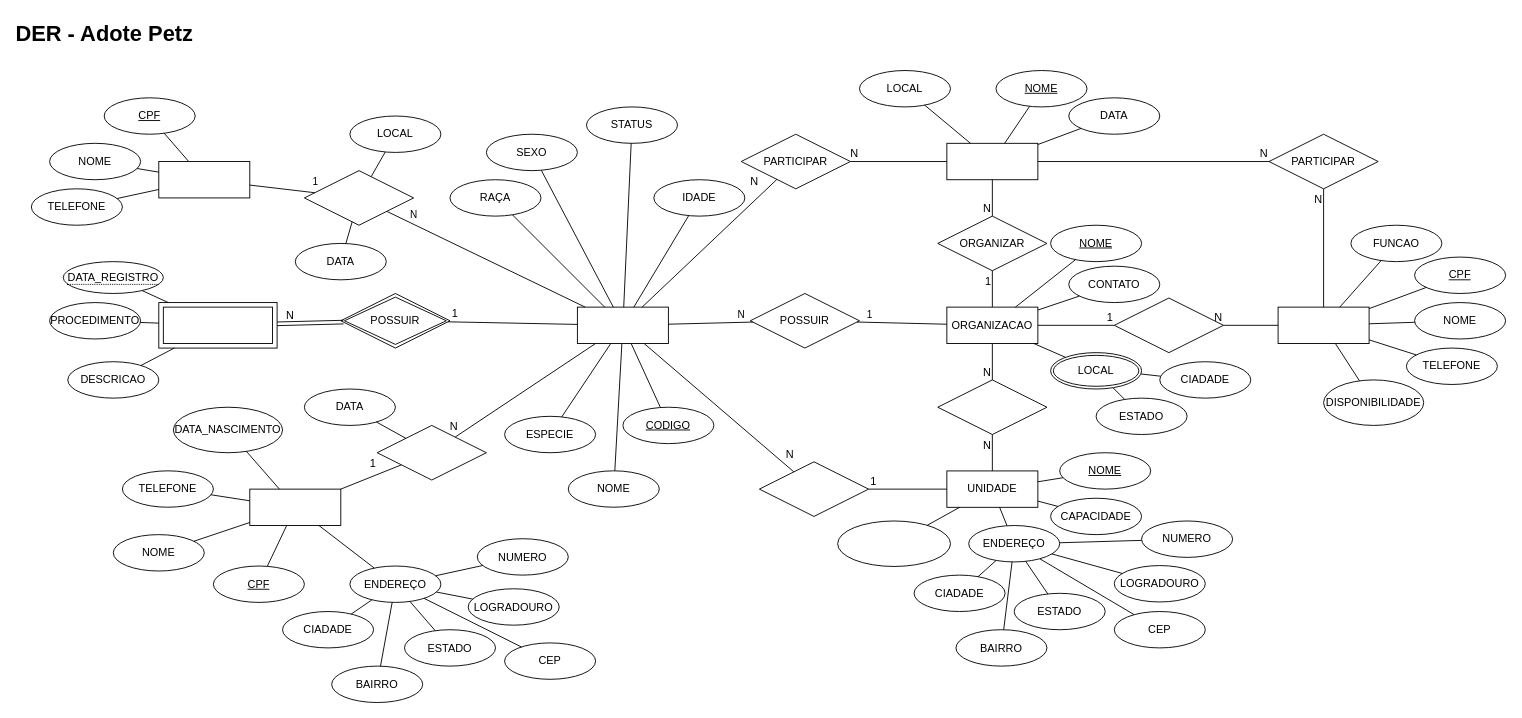
The diagram is 1522 pixels wide and 718 high, and some of its shapes have lost their labels. Here are the shapes that lost their labels. From the top down, the centre of each, then its label:
(x=204, y=179): CAPTURADOR
(x=992, y=161): FEIRA_ADOCAO
(x=358, y=197): CAPTURAR
(x=217, y=325): HISTORICO_SAUDE
(x=622, y=325): ANIMAL
(x=1168, y=325): ASSOCIAR
(x=1323, y=325): VOLUNTARIO
(x=992, y=407): UTILIZAR
(x=431, y=452): ADOTAR
(x=295, y=507): RECEPTOR
(x=813, y=488): ALOJAR
(x=893, y=543): ESPAÇO_DEDICADO
